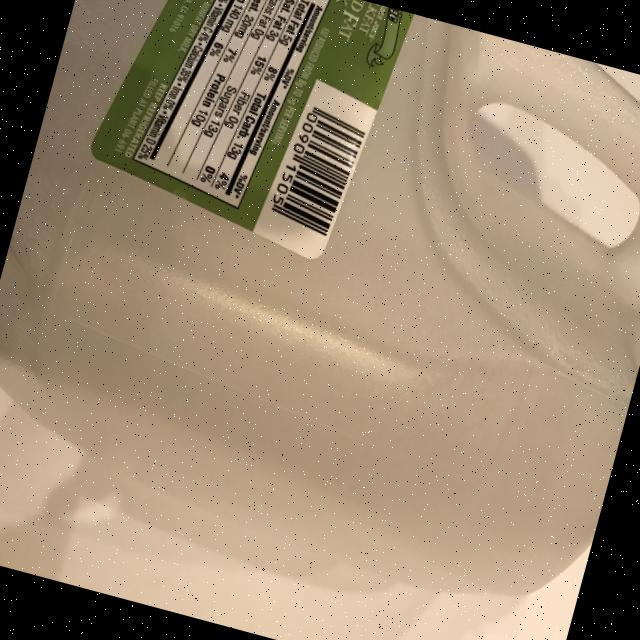plastic: (76, 0, 413, 269)
